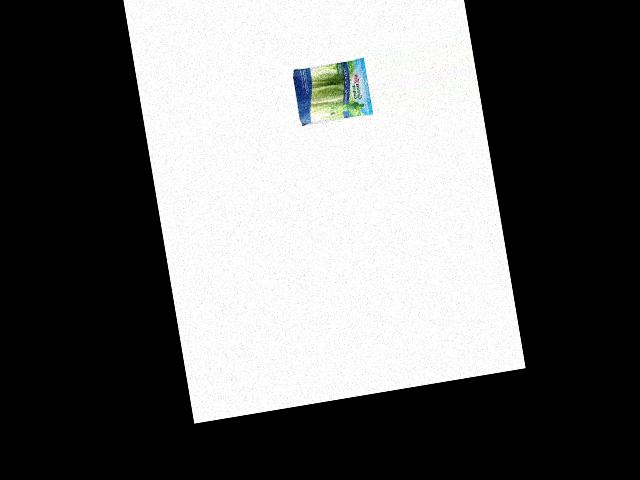lettuce: (288, 57, 370, 128)
